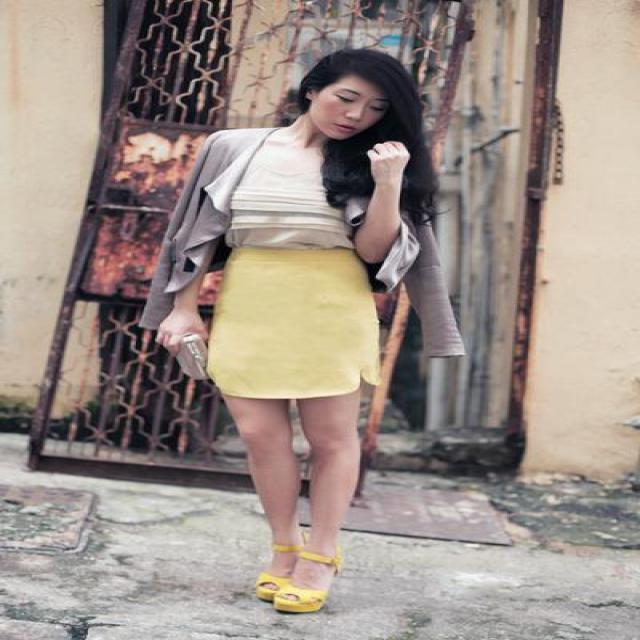jacket: (109, 128, 470, 370)
shirt: (189, 150, 365, 262)
shoe: (258, 576, 332, 614)
skirt: (208, 252, 390, 398)
